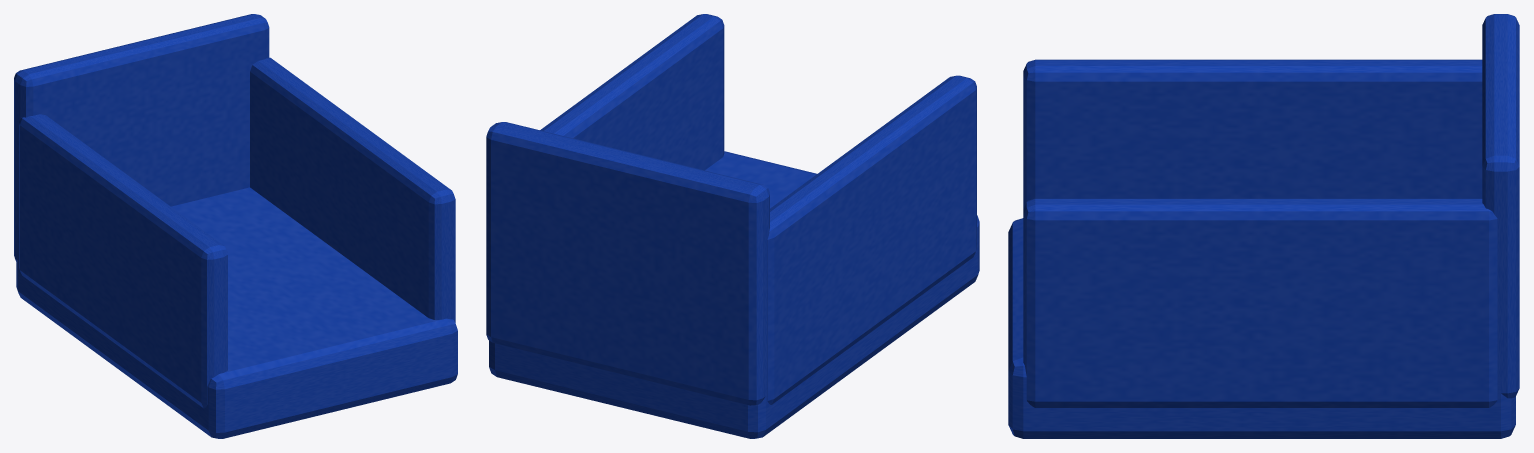
The model's file is StorageBin.obj.
The picture shows the model from 3 angles, left to right: view 1: azimuth 30°, elevation 25°; view 2: azimuth 150°, elevation 25°; view 3: azimuth 270°, elevation 25°; orthographic projection. The views are drawn at different scales.
Visible parts, largest first — view 1: Bin_Base, Side, Back, Side.001; view 2: Back, Side, Bin_Base, Side.001; view 3: Side.001, Side, Bin_Base, Back.
Boxes of the visible parts, <box> form: Bin_Base: <box>16,187,457,438</box>; Side: <box>19,114,227,408</box>; Back: <box>14,14,269,262</box>; Side.001: <box>250,57,455,322</box>; Back: <box>486,122,769,405</box>; Side: <box>767,75,976,404</box>; Bin_Base: <box>489,151,979,438</box>; Side.001: <box>540,14,724,170</box>; Side.001: <box>1023,198,1497,407</box>; Side: <box>1023,59,1482,208</box>; Bin_Base: <box>1008,218,1515,438</box>; Back: <box>1482,14,1519,398</box>.
Size of the model in its own units: 0.245 by 0.21 by 0.3425.
